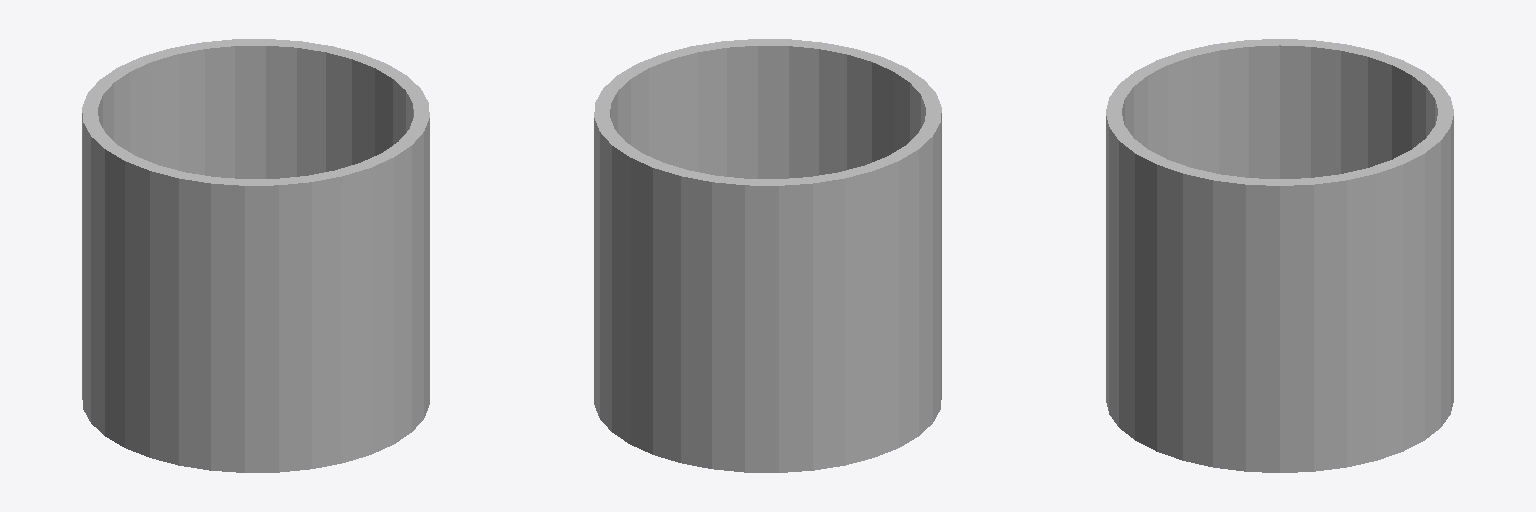
File: pipe.obj
3 renders of one model, left to right at view 1: azimuth 30°, elevation 25°; view 2: azimuth 150°, elevation 25°; view 3: azimuth 270°, elevation 25°, orthographic.
Visible parts, largest first — view 1: pipe.001_pipe.001_None.001; view 2: pipe.001_pipe.001_None.001; view 3: pipe.001_pipe.001_None.001.
Part boxes in pixels (x1,y1,x2,y2): pipe.001_pipe.001_None.001: (82, 39, 429, 472); pipe.001_pipe.001_None.001: (594, 39, 941, 472); pipe.001_pipe.001_None.001: (1106, 39, 1453, 472).
Size of the model in its own units: 2.2 by 2 by 2.2.